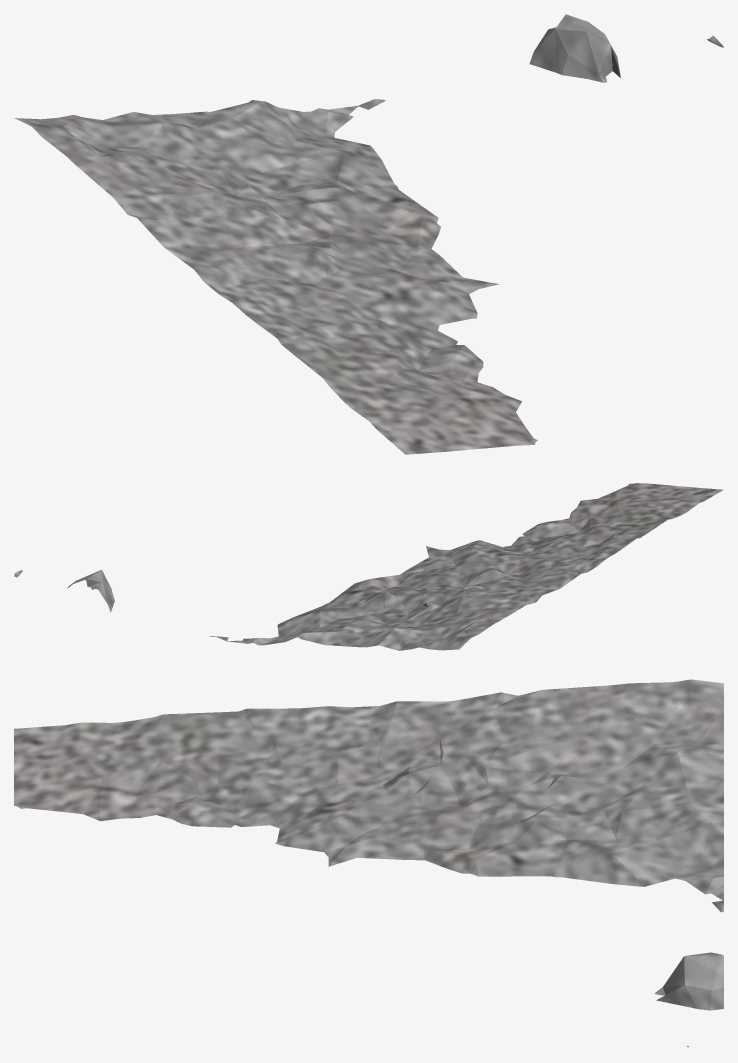
The picture shows the model from 3 angles, top to bottom: view 1: azimuth 30°, elevation 25°; view 2: azimuth 150°, elevation 25°; view 3: azimuth 270°, elevation 25°; orthographic projection. The views are drawn at different scales.
Size of the model in its own units: 0.8373 by 0.0899 by 0.8374.
Materials: 1 (1 with a texture image).
